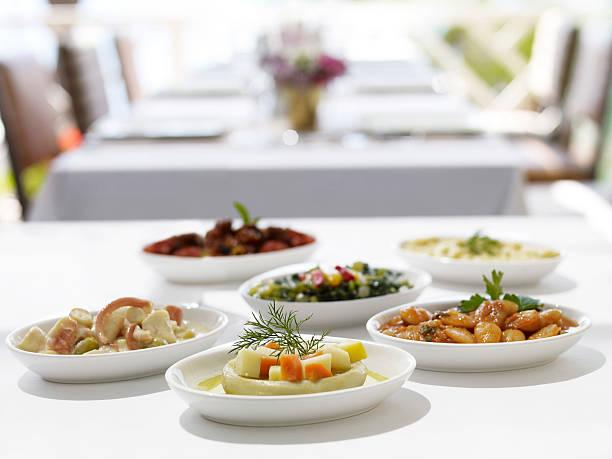Braised Crucian Carp: (157, 327, 420, 426), (375, 265, 589, 369), (4, 294, 235, 387)
